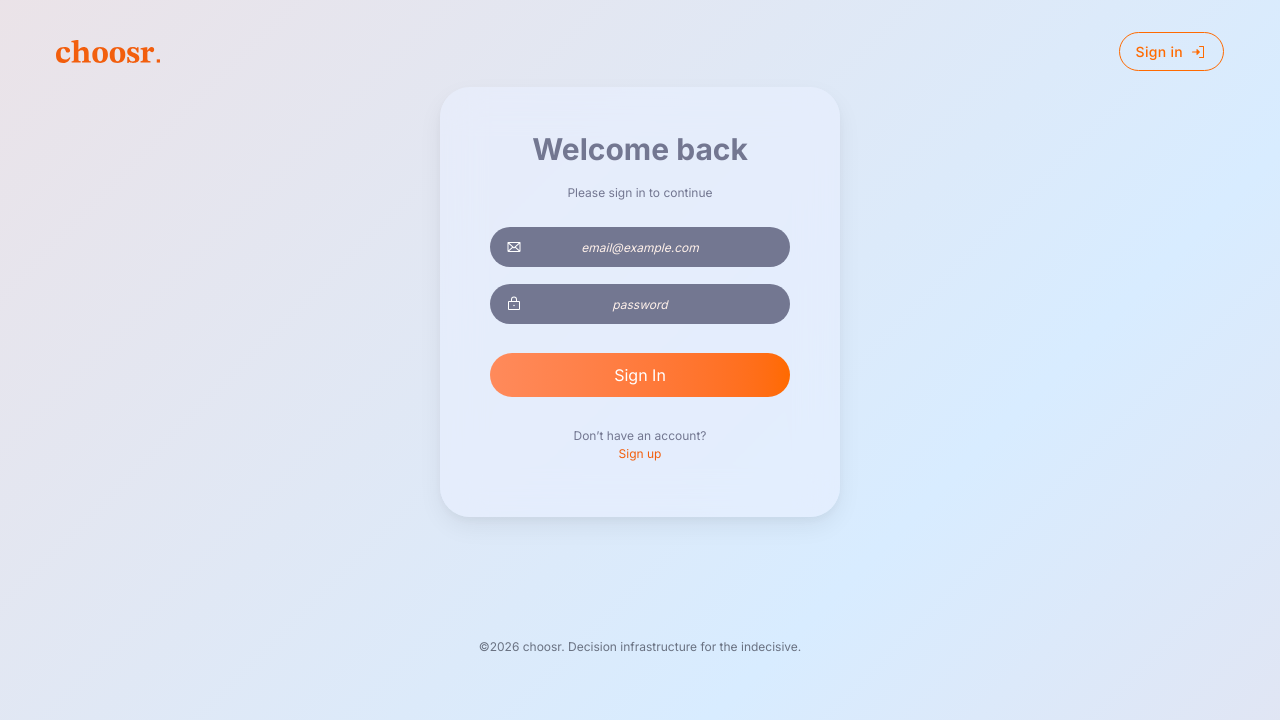
Test case: Login Page › shows error on invalid credentials
The image size is (1280, 720).
Type "wrong@example.com" into the field with placeholder "email@example.com".
click(640, 247); type("wrong@example.com")  # box [490,227,790,267]
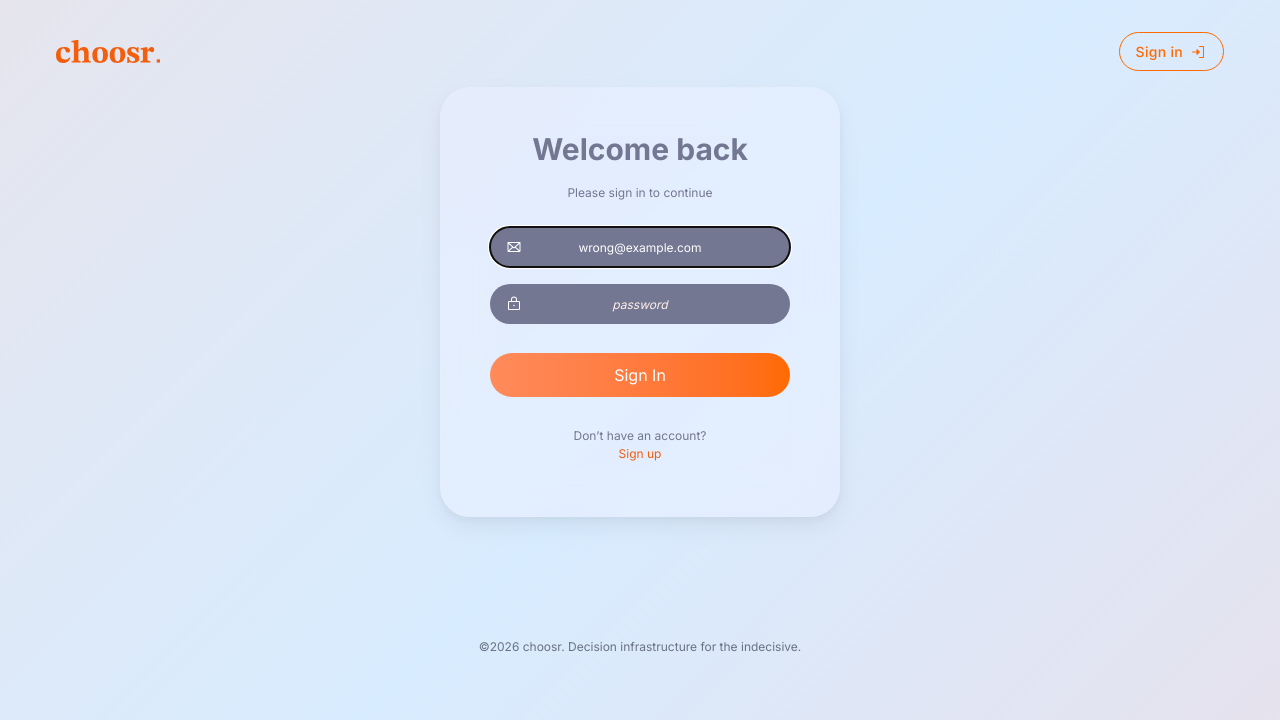
Type "wrongpassword" into the password field with placeholder "password".
click(640, 304); type("wrongpassword")  # box [490,284,790,324]
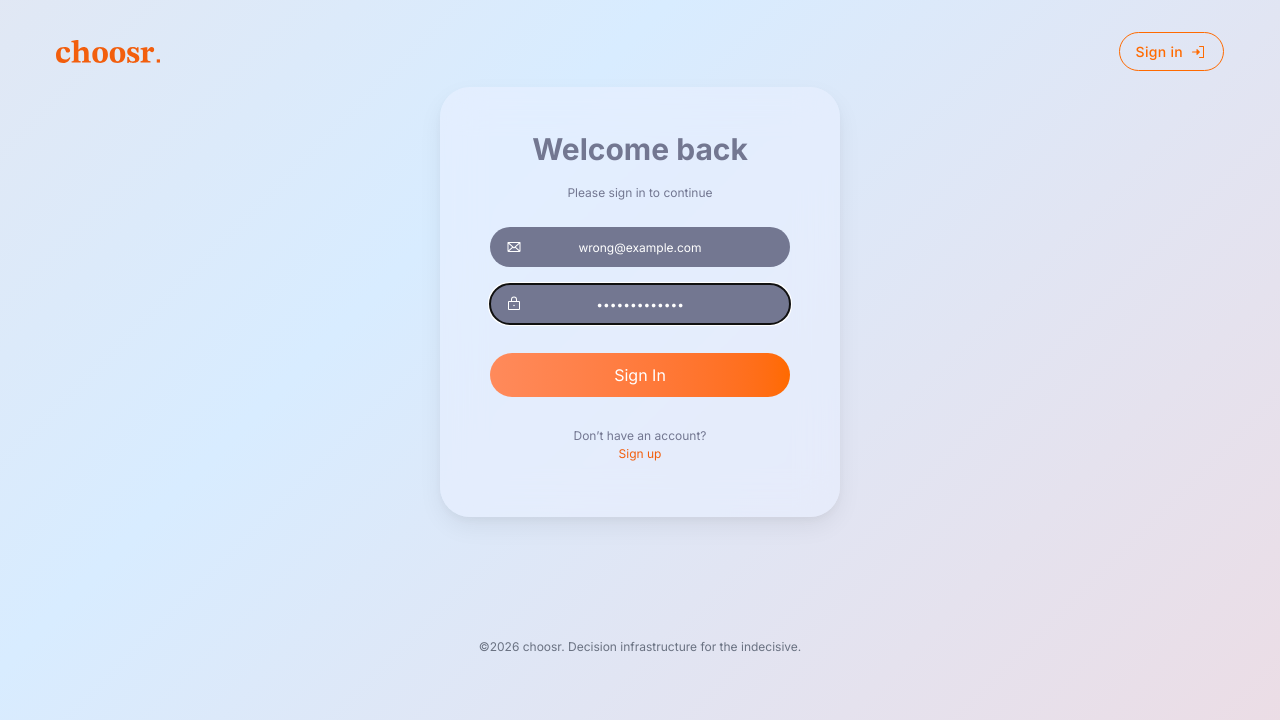
Click the submit button.
click(640, 375)  # box [490,353,790,397]
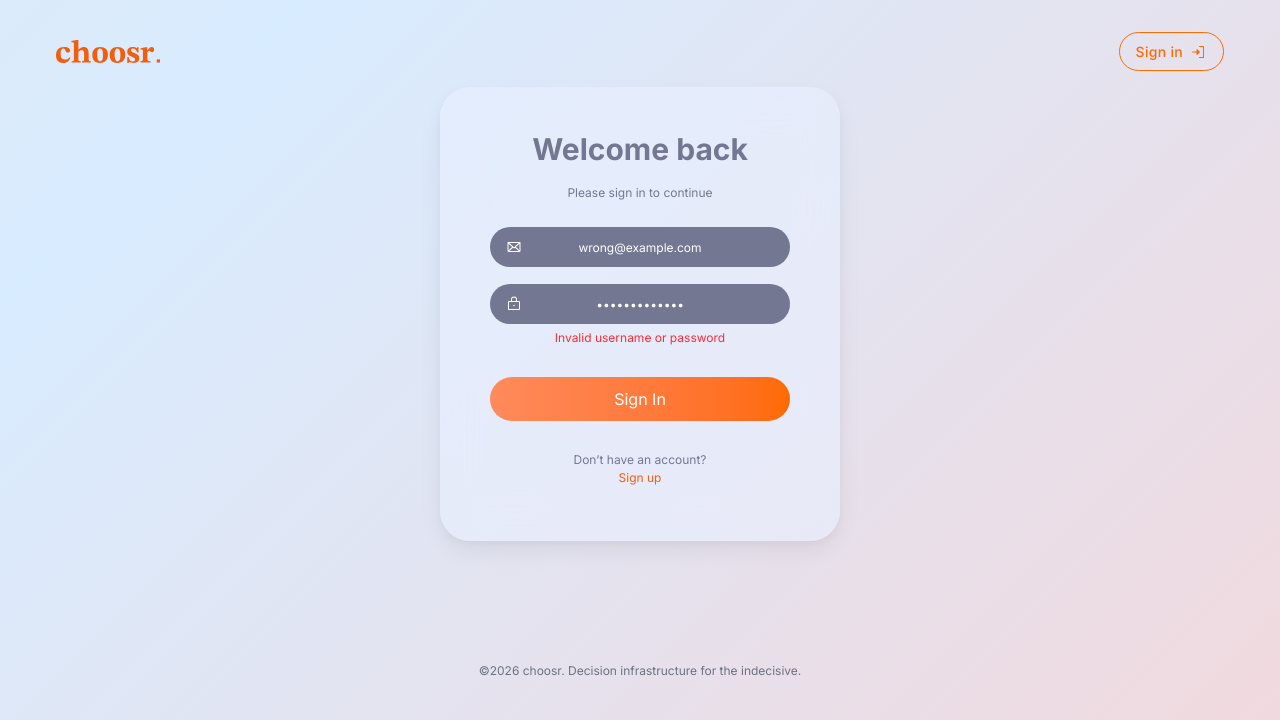
Expected: the text "Invalid username or password" is shown, [555,330,725,345]
